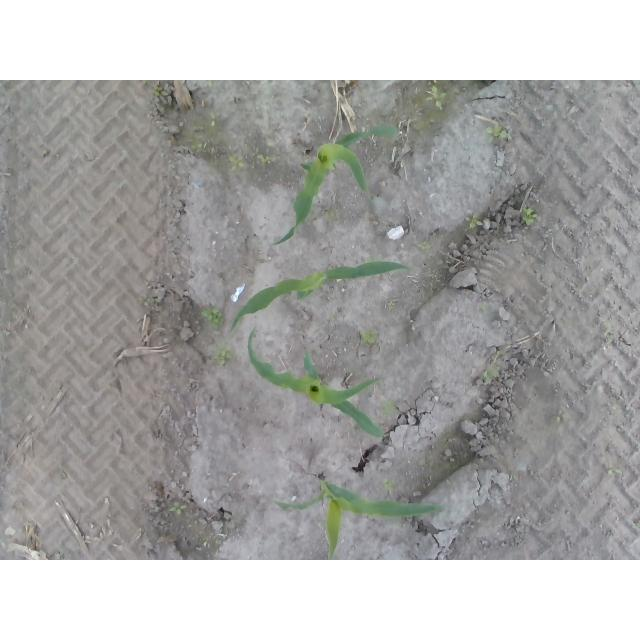Maize: (247, 327, 388, 446), (272, 124, 399, 248), (271, 476, 447, 560), (229, 260, 411, 329)
Weeds: (200, 307, 225, 330), (425, 85, 448, 109), (488, 126, 513, 144), (215, 348, 234, 368), (463, 212, 483, 228), (168, 501, 188, 516), (362, 328, 379, 345), (254, 152, 272, 168), (227, 154, 245, 170), (521, 207, 536, 225), (384, 399, 396, 417), (416, 240, 432, 253), (606, 463, 622, 475), (190, 142, 208, 152), (483, 367, 493, 385), (155, 86, 170, 98), (207, 112, 217, 130), (556, 408, 568, 422), (324, 209, 337, 220), (143, 297, 157, 307), (383, 479, 394, 490), (388, 300, 396, 310), (208, 80, 216, 88)
